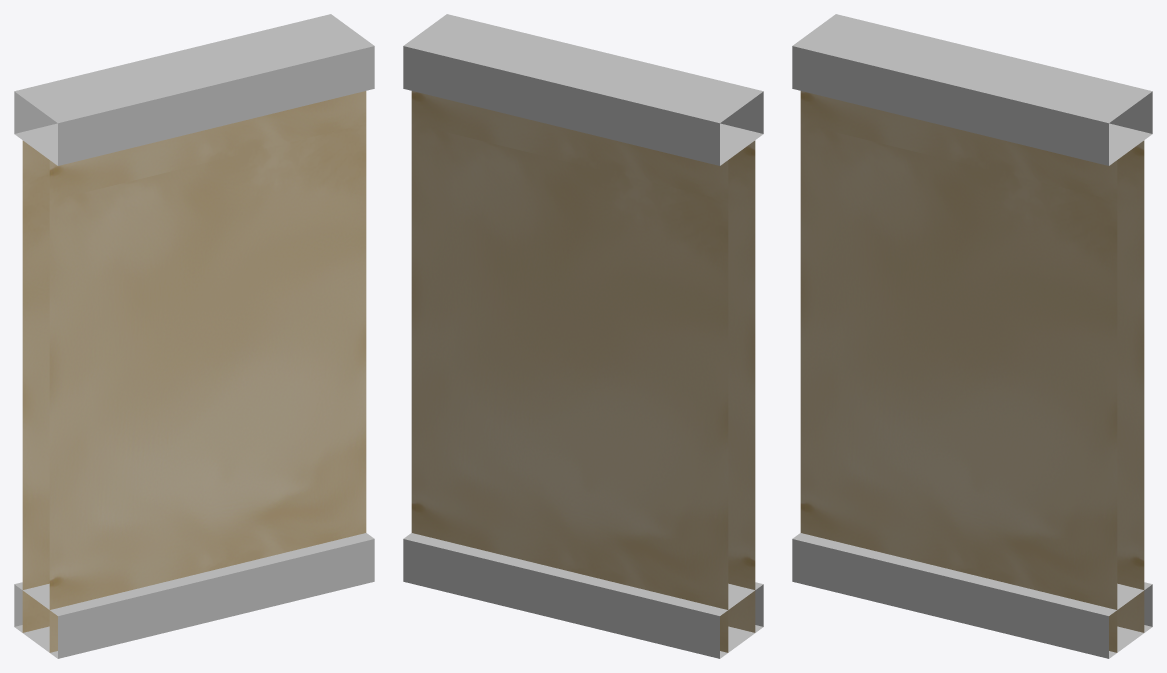
File: MOD_wall_03.fbx
3 renders of one model, left to right at view 1: azimuth 30°, elevation 25°; view 2: azimuth 150°, elevation 25°; view 3: azimuth 330°, elevation 25°, orthographic.
Parts seen in each view (by area): view 1: wall_03; view 2: wall_03; view 3: wall_03.
Boxes of the visible parts, x1,y1,x2,y2 form: wall_03: (14,14,374,658); wall_03: (403,14,763,658); wall_03: (792,14,1152,658).
Size of the model in its own units: 79.43 by 18.99 by 128.
